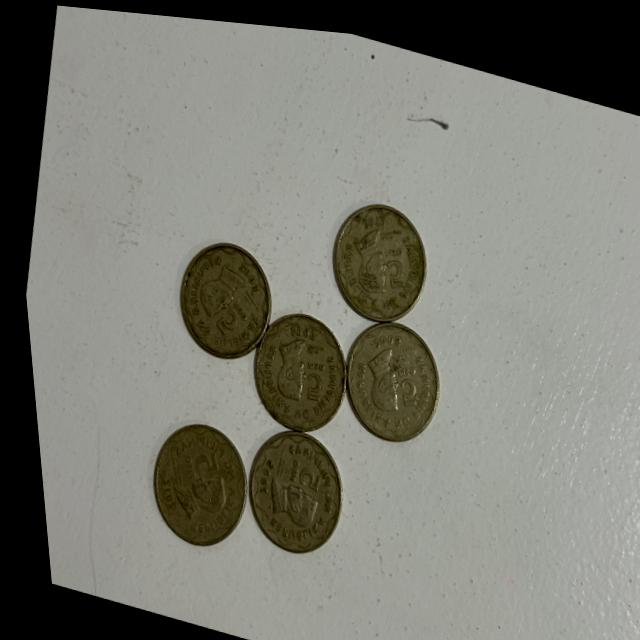5_Old_Front: (271, 439, 319, 496), (382, 344, 423, 407), (285, 347, 326, 409), (204, 290, 247, 339), (166, 439, 210, 486), (372, 234, 407, 283)
